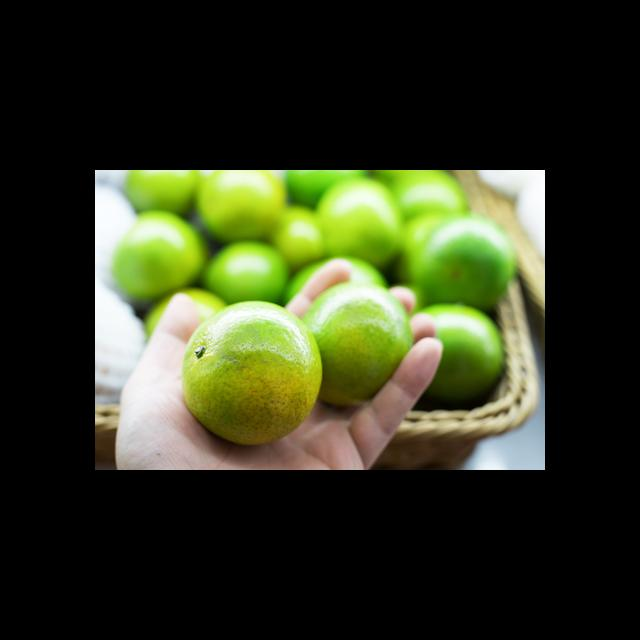lime: (181, 302, 320, 447), (302, 284, 413, 408), (419, 304, 504, 403), (112, 211, 199, 303), (319, 181, 397, 269), (199, 170, 287, 244), (208, 242, 291, 307)
